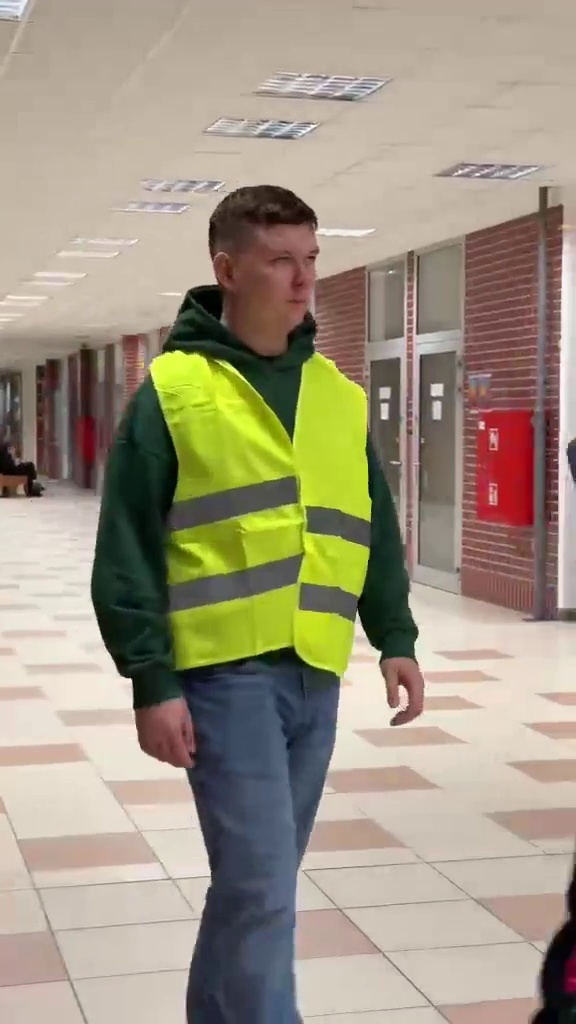vest: (78, 185, 435, 1003)
